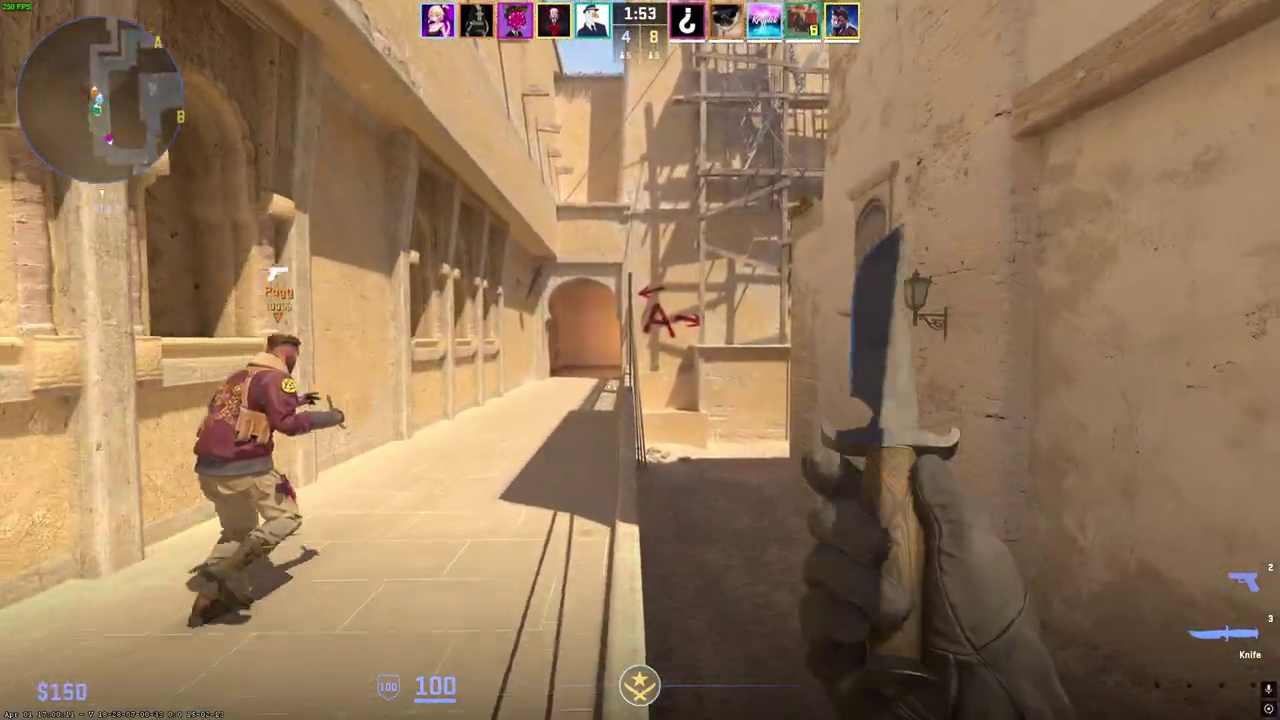Terrorist: (188, 334, 323, 628)
